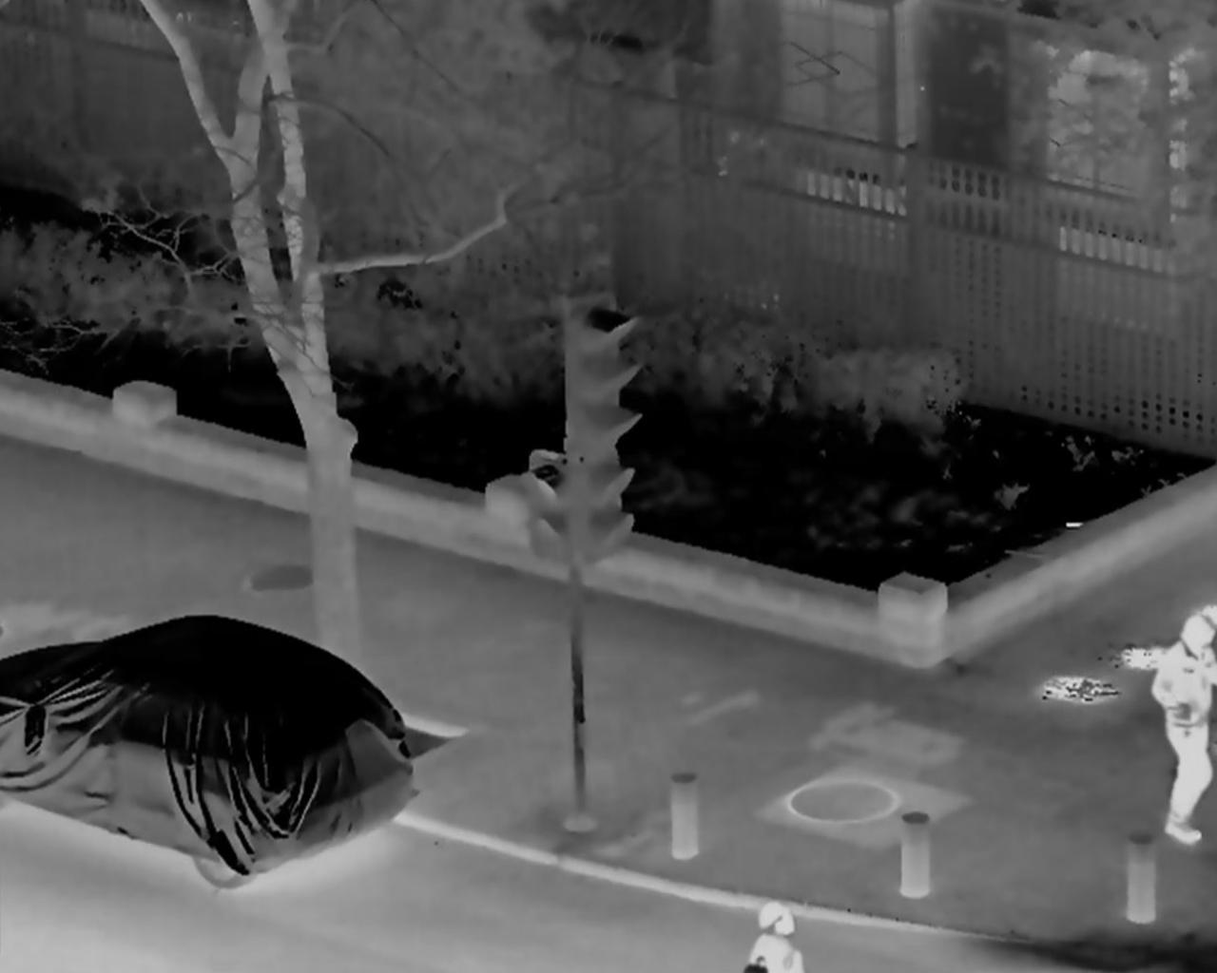person: (1144, 621, 1217, 844), (740, 902, 821, 973)
